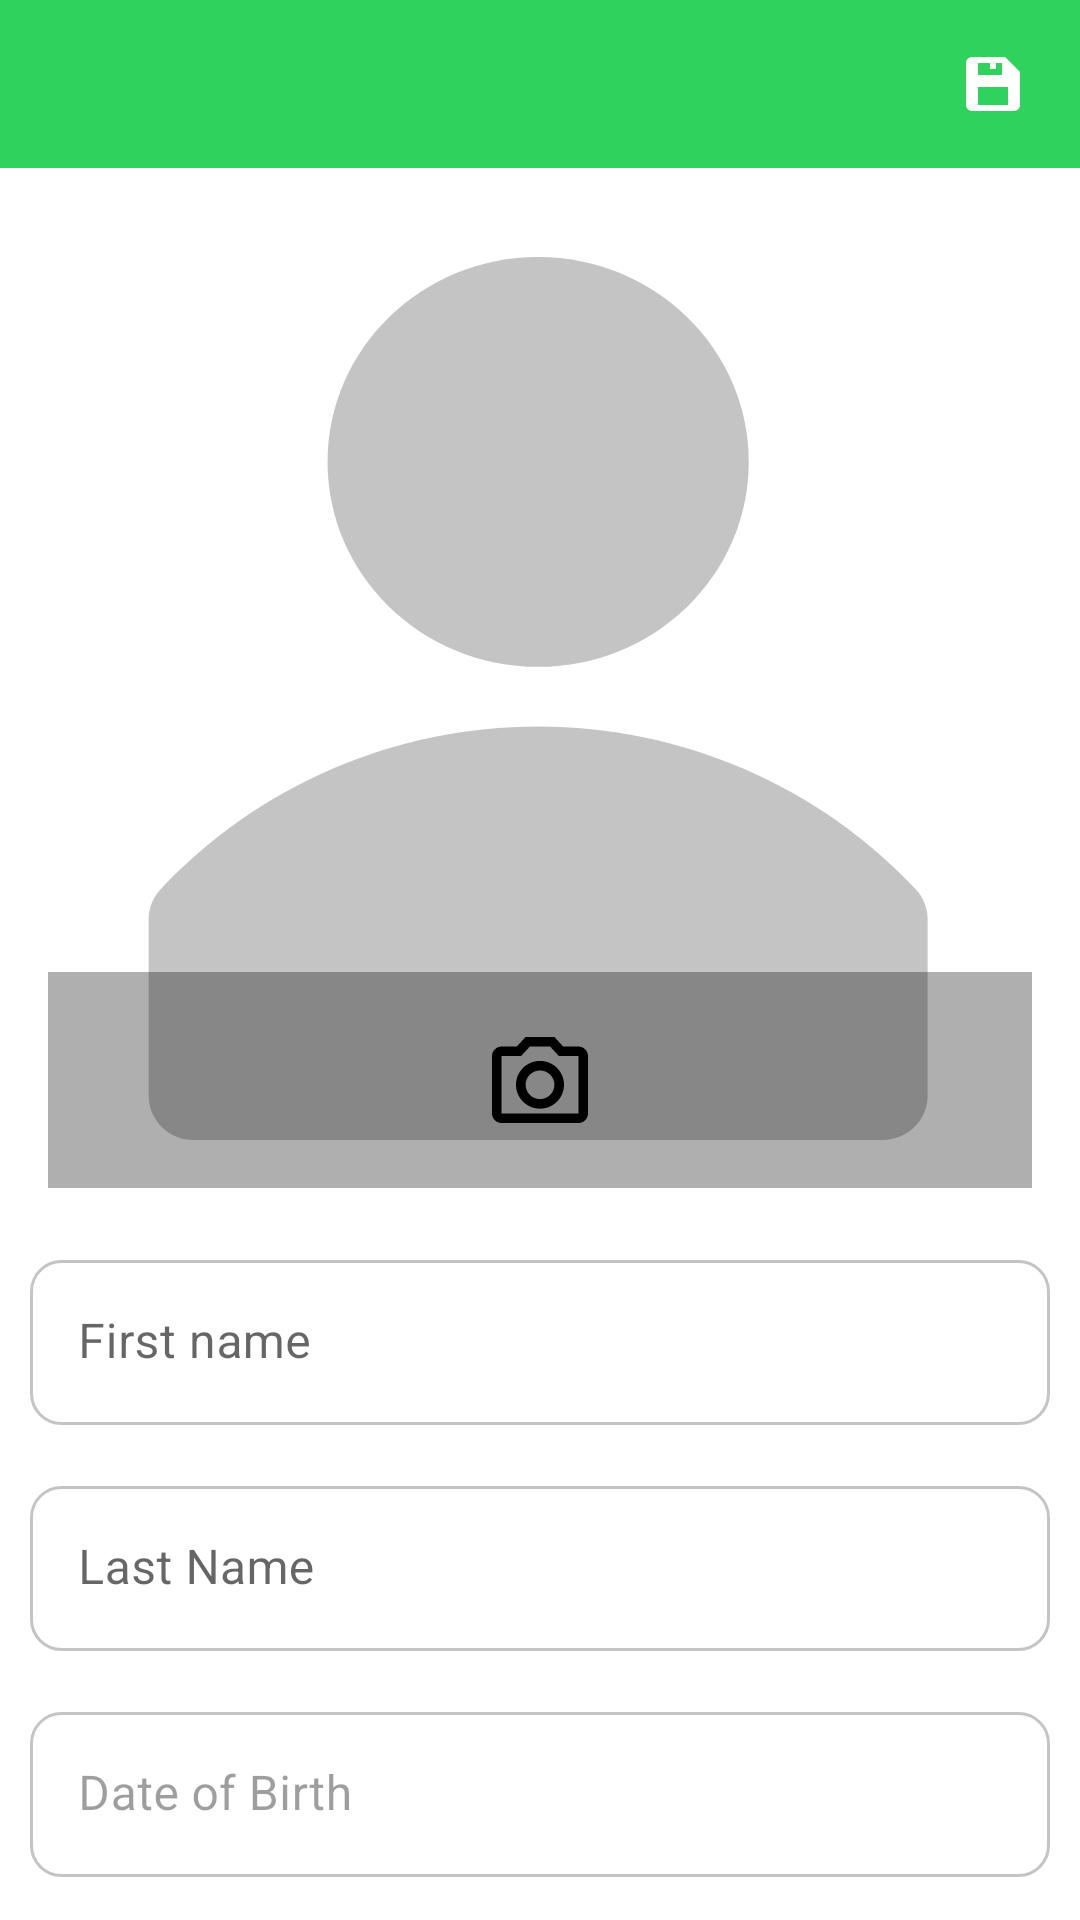

Named icons in this screenshot (1080x1920) and their centers, (x,y):
camera: (540,1080)
save: (993,84)
